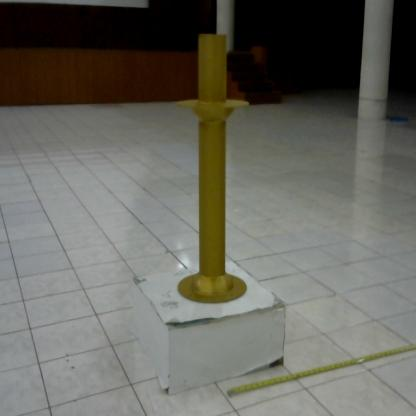pole: (170, 30, 255, 316)
